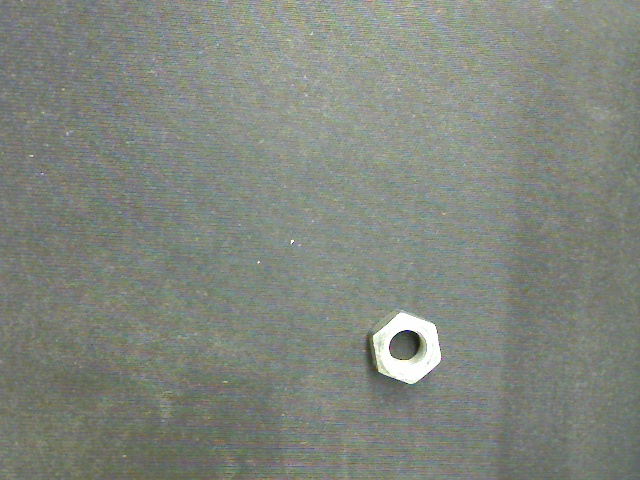nut: (367, 310, 442, 385)
